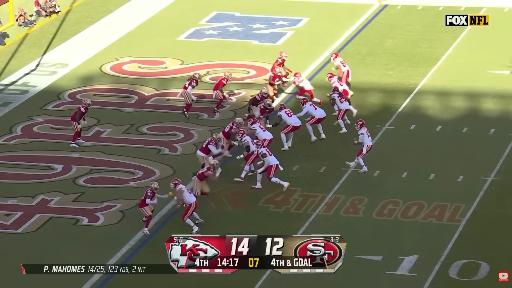Helmet: (171, 178, 182, 189), (355, 119, 365, 130), (149, 181, 159, 192), (211, 133, 222, 143), (254, 139, 263, 149), (237, 130, 246, 139), (248, 118, 258, 126), (234, 118, 243, 126), (263, 99, 272, 107), (83, 99, 91, 107), (327, 73, 335, 81), (224, 71, 232, 79), (260, 87, 268, 95), (274, 66, 282, 74), (300, 98, 308, 106), (280, 51, 287, 59), (192, 73, 200, 80), (278, 104, 286, 111), (331, 53, 338, 60), (210, 160, 218, 166), (332, 87, 339, 93), (294, 73, 301, 78)
Jersey: (297, 103, 326, 118), (176, 184, 196, 204), (278, 109, 301, 125), (258, 148, 279, 165), (250, 123, 272, 139), (199, 138, 216, 156), (139, 189, 155, 207), (71, 106, 88, 122), (196, 166, 214, 181), (333, 93, 349, 109), (293, 78, 313, 90), (222, 122, 236, 139), (359, 128, 372, 145), (250, 93, 267, 106), (332, 77, 347, 91), (242, 136, 255, 152), (334, 58, 349, 71), (213, 77, 228, 90), (183, 78, 198, 91), (259, 105, 274, 117), (272, 57, 285, 70), (269, 72, 282, 85), (255, 93, 267, 103)
Player: (252, 140, 289, 190), (171, 179, 203, 234), (139, 182, 168, 234), (346, 120, 372, 172), (273, 104, 301, 150), (296, 99, 326, 141), (234, 130, 258, 181), (332, 87, 356, 133), (178, 73, 200, 118), (71, 99, 91, 147), (293, 73, 322, 105), (193, 160, 218, 196), (221, 118, 243, 157), (197, 134, 223, 167), (327, 73, 353, 105), (213, 71, 231, 113), (268, 66, 289, 102), (331, 53, 351, 87), (248, 119, 273, 146), (271, 52, 292, 78), (255, 99, 274, 127), (248, 88, 268, 114)
